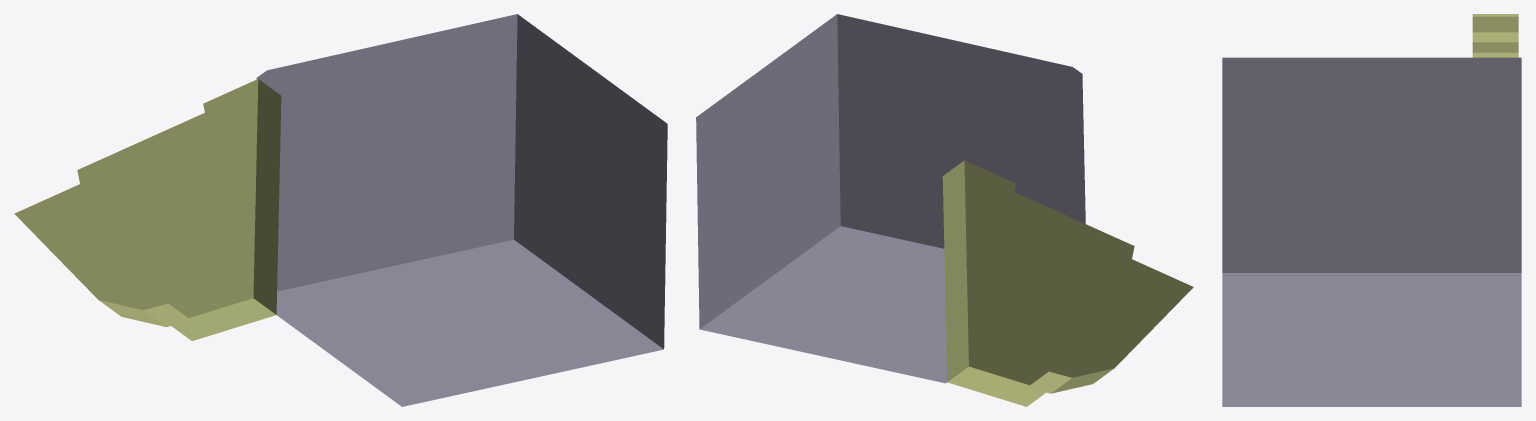
The picture shows the model from 3 angles, left to right: view 1: azimuth 30°, elevation 25°; view 2: azimuth 150°, elevation 25°; view 3: azimuth 270°, elevation 25°; orthographic projection. The views are drawn at different scales.
Parts seen in each view (by area): view 1: 0_3_0_1_2_2_1_2; view 2: 0_3_0_1_2_2_1_2; view 3: 0_3_0_1_2_2_1_2.
Boxes of the visible parts, x1,y1,x2,y2 form: 0_3_0_1_2_2_1_2: (14,14,667,406); 0_3_0_1_2_2_1_2: (696,14,1193,406); 0_3_0_1_2_2_1_2: (1222,14,1521,406).
Size of the model in its own units: 75.68 by 32.88 by 39.
